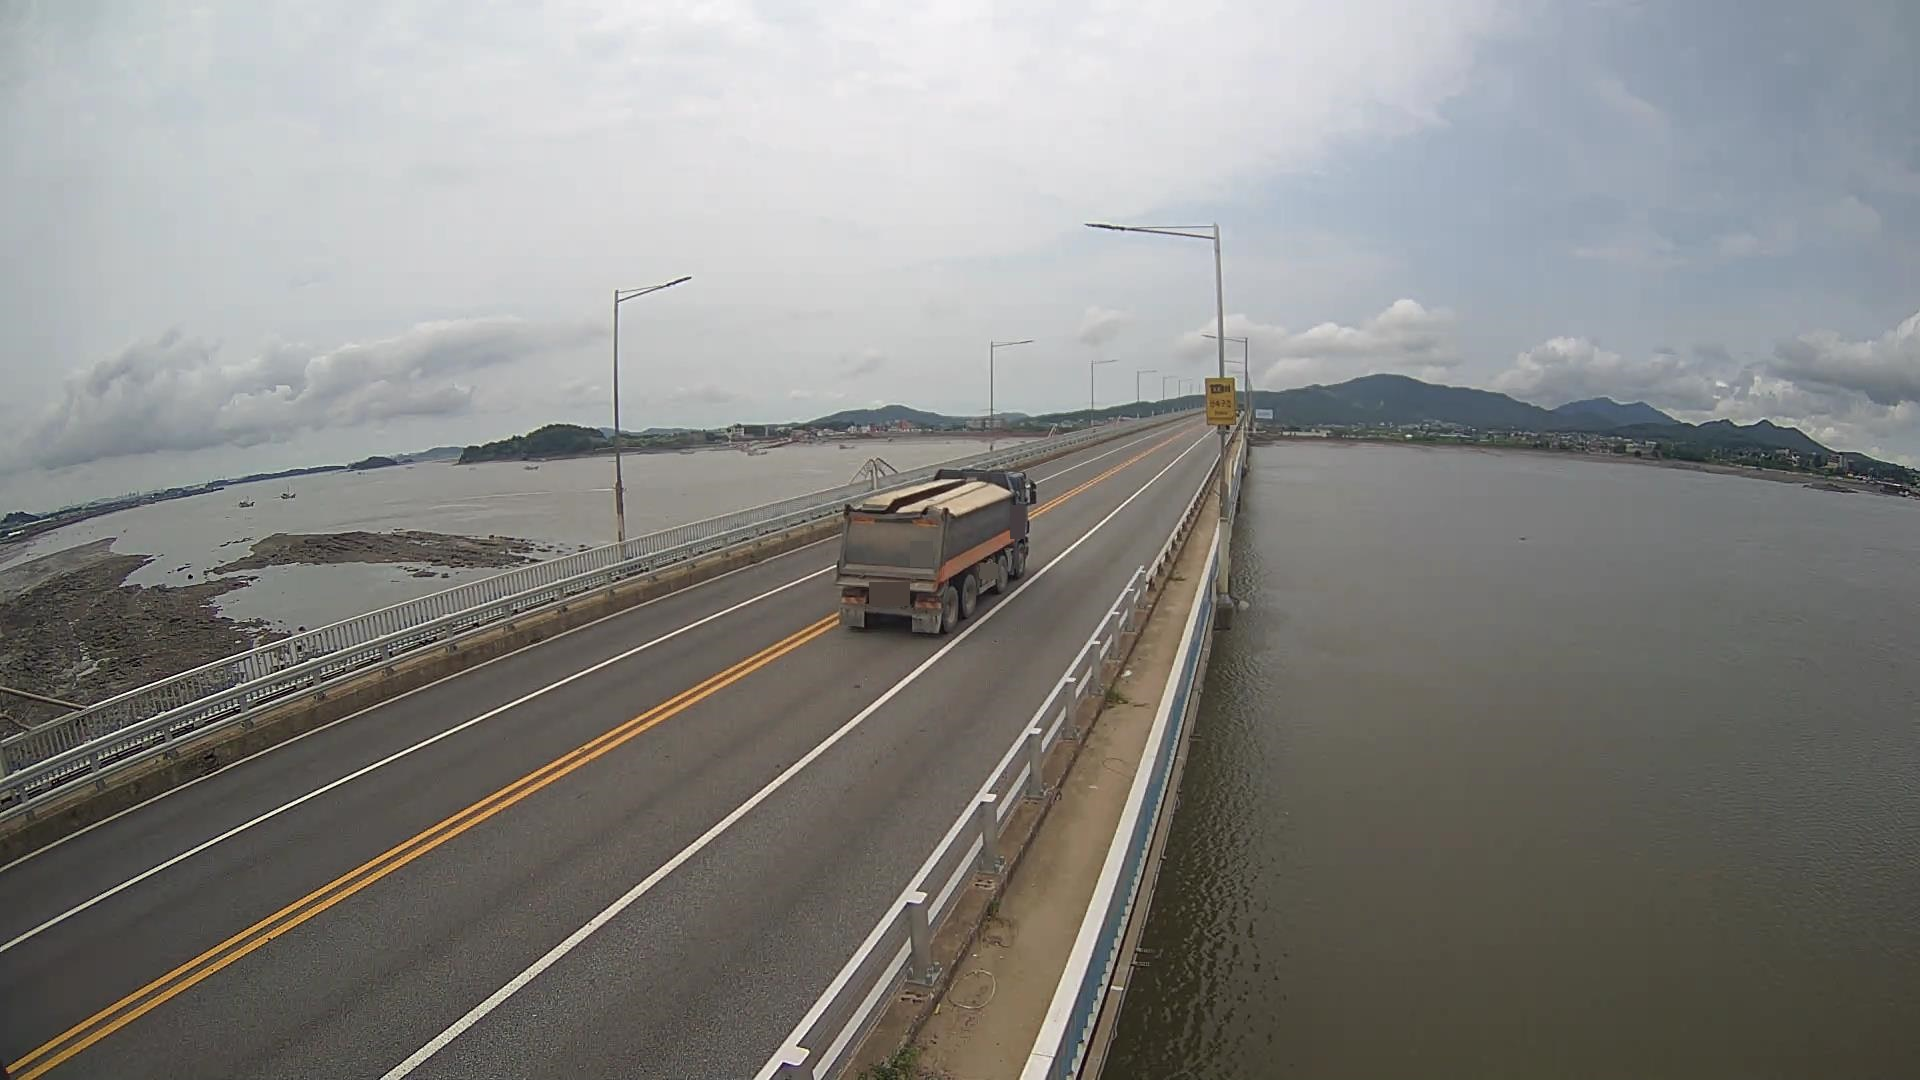정상차량: (833, 468, 1036, 636)
